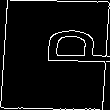P_W: (5, 35, 105, 75)
